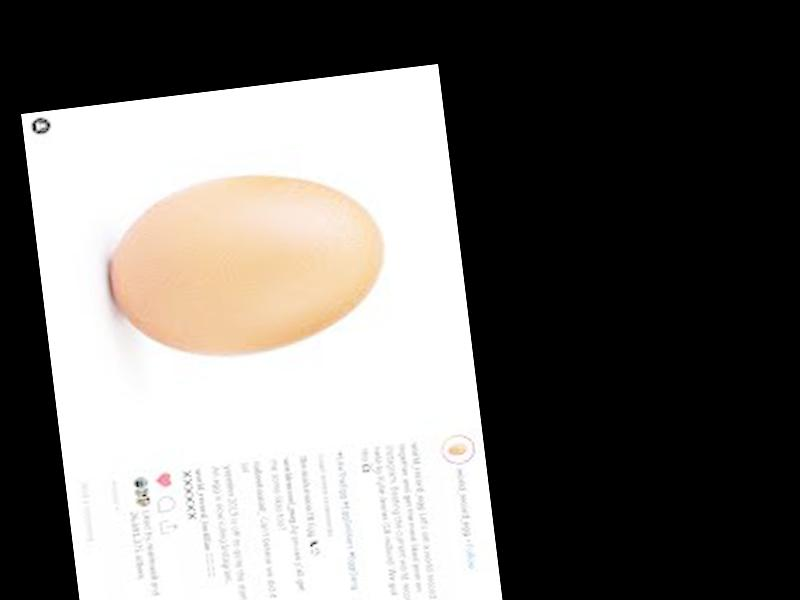Eggs: (103, 160, 392, 368)
